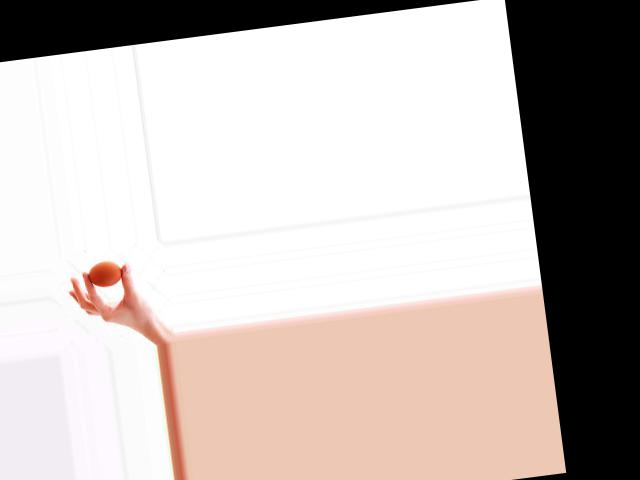egg: (86, 259, 123, 288)
